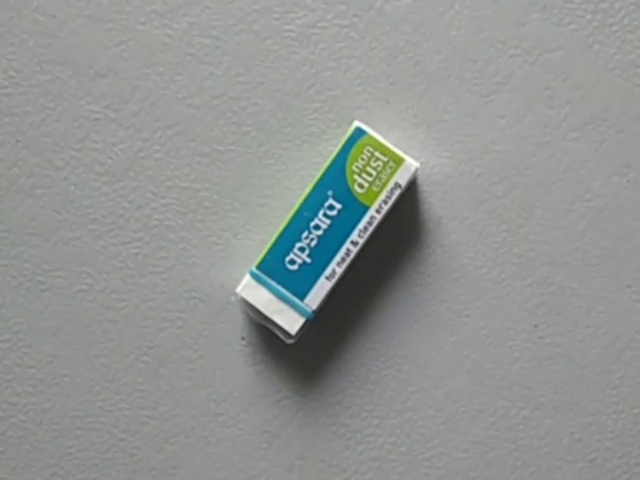Eraser: (235, 118, 426, 349)
